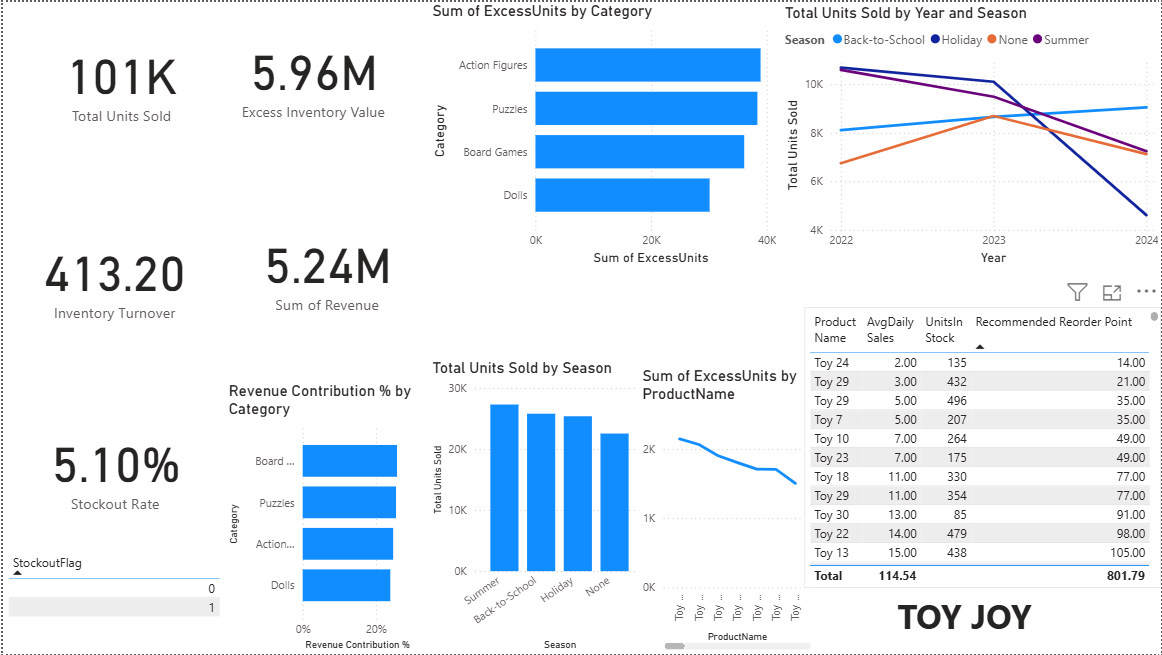

The dashboard page shown, as its layout file describes it:
{"tool":"powerbi","page":{"name":"Page 1","canvas":[1280,720],"ordinal":0},"visuals":[{"type":"card","fields":{"Values":["toyjoy_inventory.Total Units Sold"]},"box":[0,0,262.1,173.8],"z":0},{"type":"card","fields":{"Values":["toyjoy_inventory.Inventory Turnover"]},"box":[0,215.2,246.9,178],"z":1000},{"type":"barChart","fields":{"Y":["toyjoy_inventory.Revenue Contribution %"],"Category":["toyjoy_inventory.Category"]},"box":[281.4,419.4,358.7,300.8],"z":2000},{"type":"card","fields":{"Values":["toyjoy_inventory.Stockout Rate"]},"box":[17.9,438.7,212.5,151.8],"z":3000},{"type":"card","fields":{"Values":["toyjoy_inventory.Excess Inventory Value"]},"box":[231.8,13.8,222.1,136.6],"z":4000},{"type":"clusteredColumnChart","fields":{"Category":["toyjoy_inventory.Season"],"Y":["toyjoy_inventory.Total Units Sold"]},"box":[663.6,393.2,244.2,327],"z":5000},{"type":"barChart","fields":{"Y":["Sum(toyjoy_inventory.ExcessUnits)"],"Category":["toyjoy_inventory.Category"]},"box":[469.1,0,389,295.2],"z":6000},{"type":"tableEx","fields":{"Values":["toyjoy_inventory.StockoutFlag"]},"box":[0,602.9,244.2,86.9],"z":7000},{"type":"lineChart","fields":{"Category":["toyjoy_inventory.Date.Variation.Date Hierarchy.Year","toyjoy_inventory.Date.Variation.Date Hierarchy.Quarter","toyjoy_inventory.Date.Variation.Date Hierarchy.Month","toyjoy_inventory.Date.Variation.Date Hierarchy.Day"],"Series":["toyjoy_inventory.Season"],"Y":["toyjoy_inventory.Total Units Sold"]},"box":[858.1,1.4,422.2,293.9],"z":8000},{"type":"lineChart","fields":{"Category":["toyjoy_inventory.ProductName"],"Y":["Sum(toyjoy_inventory.ExcessUnits)"]},"box":[460.8,103.5,244.2,222.1],"z":9000},{"type":"tableEx","fields":{"Values":["toyjoy_inventory.ProductName","toyjoy_inventory.AvgDailySales","toyjoy_inventory.UnitsInStock","toyjoy_inventory.Recommended Reorder Point"]},"box":[907.8,339.4,372.5,296.6],"z":10000},{"type":"card","fields":{"Values":["Sum(toyjoy_inventory.Revenue)"]},"box":[246.9,230.4,222.1,129.7],"z":11000},{"type":"textbox","box":[1025,647,255.2,73.1],"z":11001}]}

Visuals, with their boxes in screenshot pixels (x1, y1, x2, y2), scaled from the page's 1280x720 canvas onto the 1162x655 screenshot:
card - toyjoy_inventory.Total Units Sold: (0, 0, 238, 158)
card - toyjoy_inventory.Inventory Turnover: (0, 196, 224, 358)
barChart - toyjoy_inventory.Revenue Contribution % x toyjoy_inventory.Category: (255, 382, 581, 654)
card - toyjoy_inventory.Stockout Rate: (16, 399, 209, 537)
card - toyjoy_inventory.Excess Inventory Value: (210, 13, 412, 137)
clusteredColumnChart - toyjoy_inventory.Season x toyjoy_inventory.Total Units Sold: (602, 358, 824, 654)
barChart - Sum(toyjoy_inventory.ExcessUnits) x toyjoy_inventory.Category: (426, 0, 779, 269)
tableEx - toyjoy_inventory.StockoutFlag: (0, 548, 222, 628)
lineChart - toyjoy_inventory.Date.Variation.Date Hierarchy.Year x toyjoy_inventory.Date.Variation.Date Hierarchy.Quarter: (779, 1, 1161, 269)
lineChart - toyjoy_inventory.ProductName x Sum(toyjoy_inventory.ExcessUnits): (418, 94, 640, 296)
tableEx - toyjoy_inventory.ProductName x toyjoy_inventory.AvgDailySales: (824, 309, 1161, 579)
card - Sum(toyjoy_inventory.Revenue): (224, 210, 426, 328)
textbox: (931, 589, 1161, 654)
